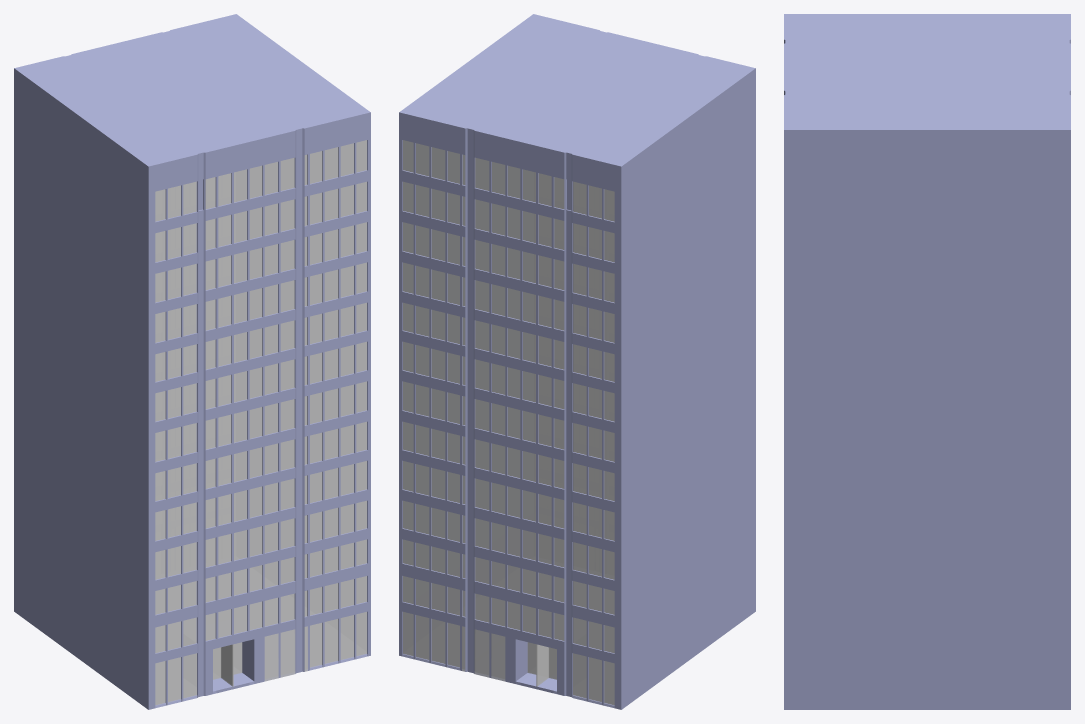
File: handmade_building4.fbx
3 renders of one model, left to right at view 1: azimuth 30°, elevation 25°; view 2: azimuth 150°, elevation 25°; view 3: azimuth 270°, elevation 25°, orthographic. The views are drawn at different scales.
Parts seen in each view (by area): view 1: Cube; view 2: Cube; view 3: Cube.
Part boxes in pixels (x1,y1,x2,y2): Cube: (14,14,370,709); Cube: (399,14,755,709); Cube: (784,14,1070,709).
Size of the model in its own units: 207 by 462 by 198.
